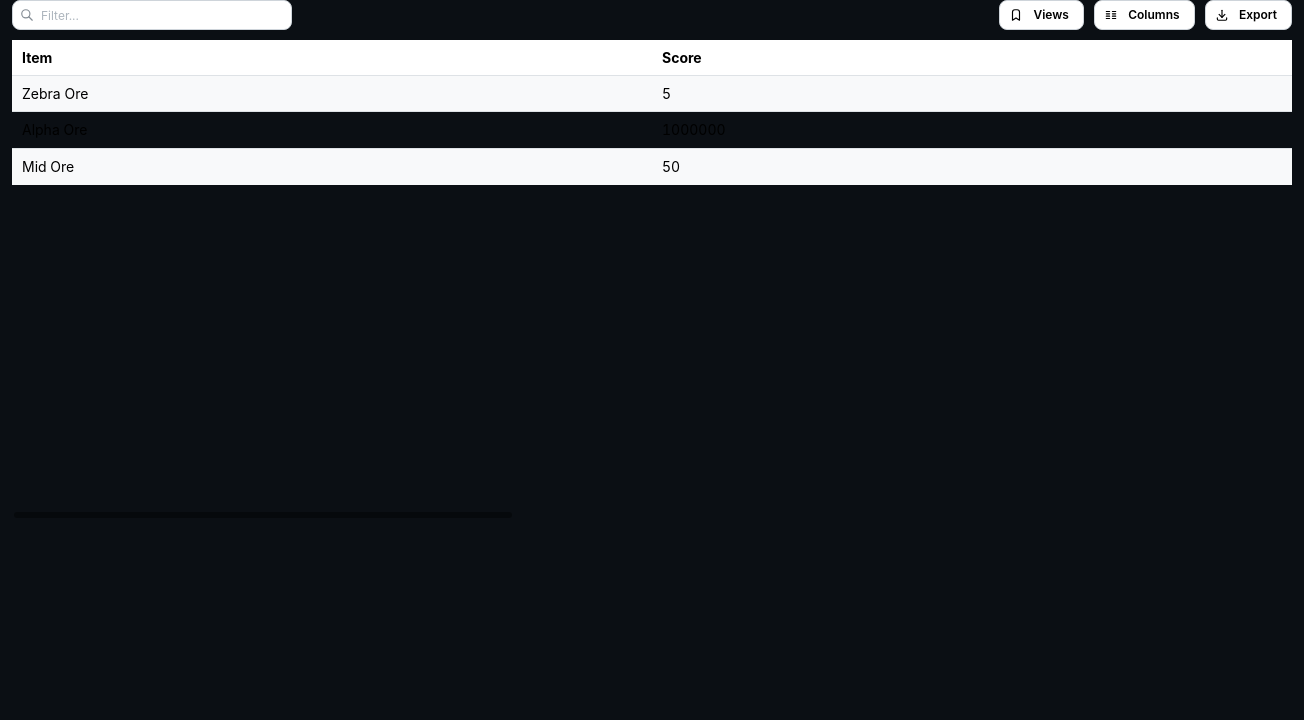
it: DataTable export menu › has no in-game list entry when the table has no item + quantity pair
Click the button with aria-label "Export table" at (1248,15), box [1205, 0, 1292, 30]
(page scrolled)
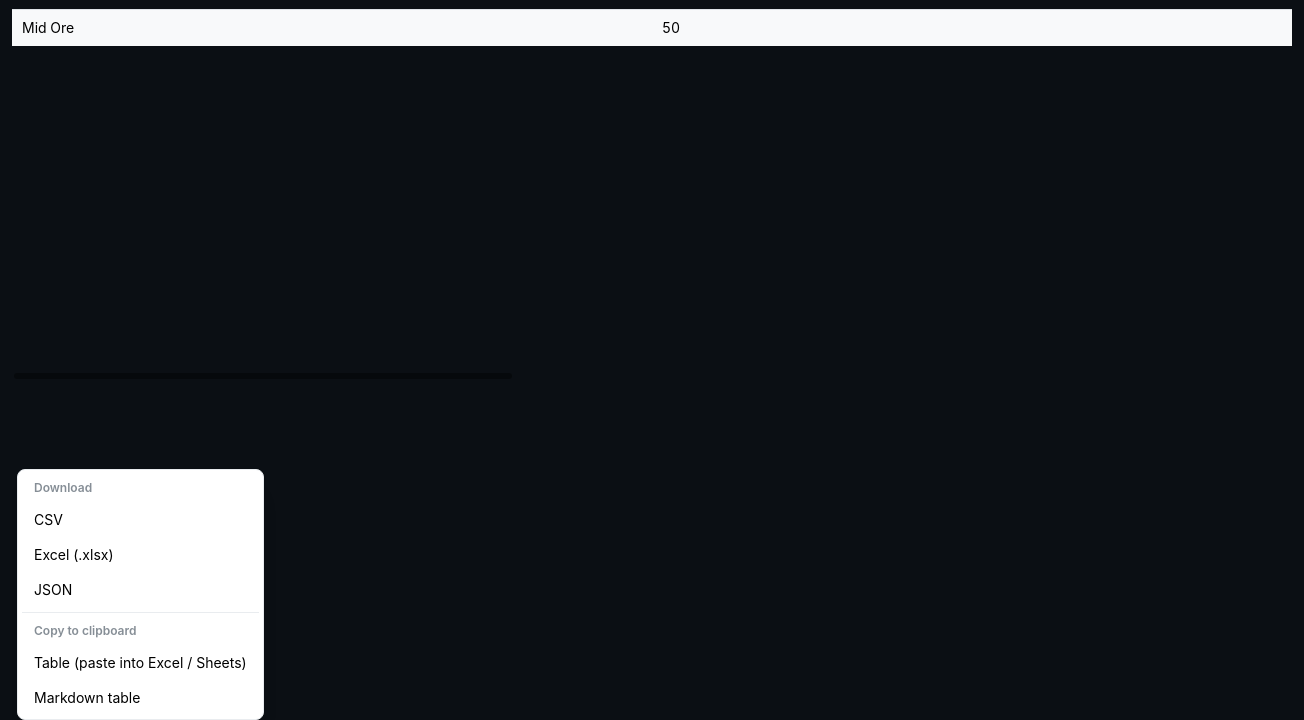
Check: the menu item "Markdown table" is shown, box [22, 680, 259, 715]
